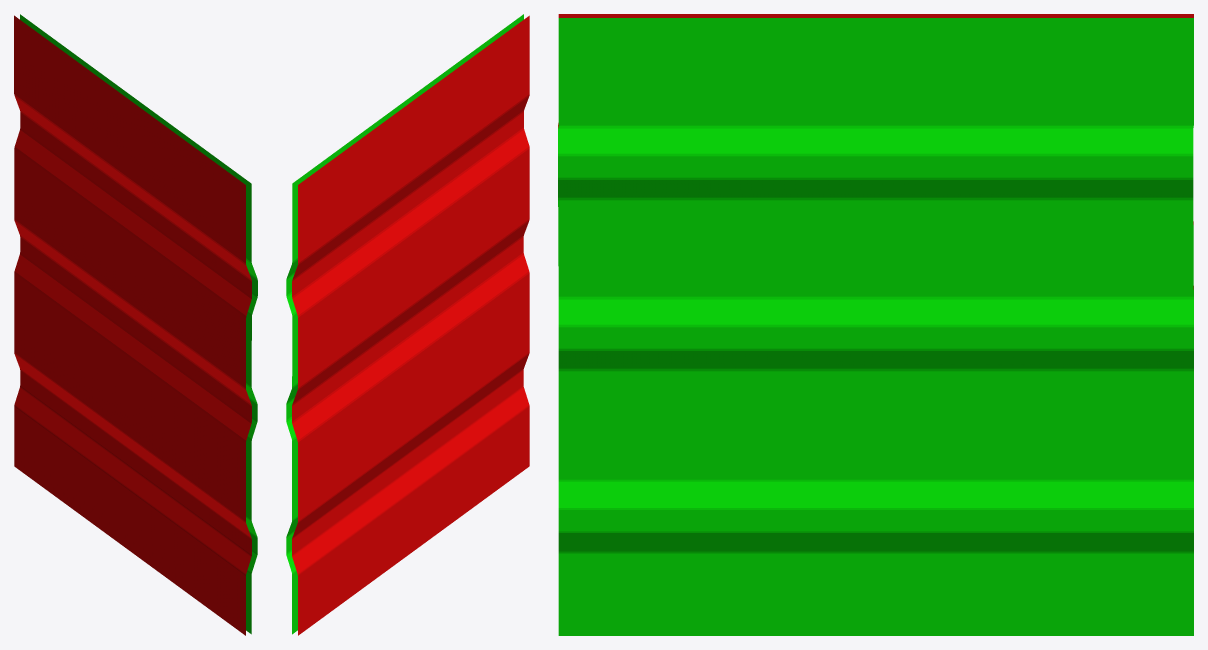
Rendered from exterior-front.glb.
The picture shows the model from 3 angles, left to right: view 1: azimuth 30°, elevation 25°; view 2: azimuth 150°, elevation 25°; view 3: azimuth 270°, elevation 25°; orthographic projection. The views are drawn at different scales.
Parts seen in each view (by area): view 1: exterior_2, interior_2; view 2: exterior_2, interior_2; view 3: interior_2, exterior_2.
Boxes of the visible parts, <box> form: exterior_2: <box>14,15,251,635</box>; interior_2: <box>20,14,257,634</box>; exterior_2: <box>292,15,529,635</box>; interior_2: <box>286,14,523,634</box>; interior_2: <box>558,18,1193,635</box>; exterior_2: <box>558,14,1193,289</box>.
Bounding box in the file's own units: 0.062 × 2.26 × 2.11.
